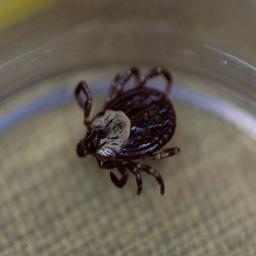Dermacentor variabilis: (73, 63, 181, 197)
